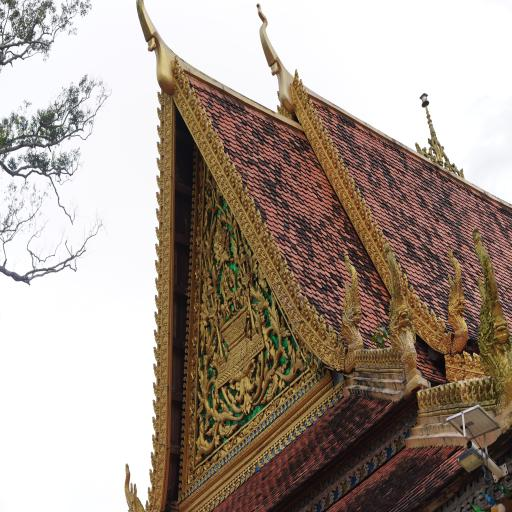lua: (250, 1, 314, 124), (126, 0, 189, 106)
ran: (463, 227, 512, 433), (378, 241, 427, 393), (439, 240, 477, 364), (332, 248, 369, 367), (119, 455, 157, 512)
